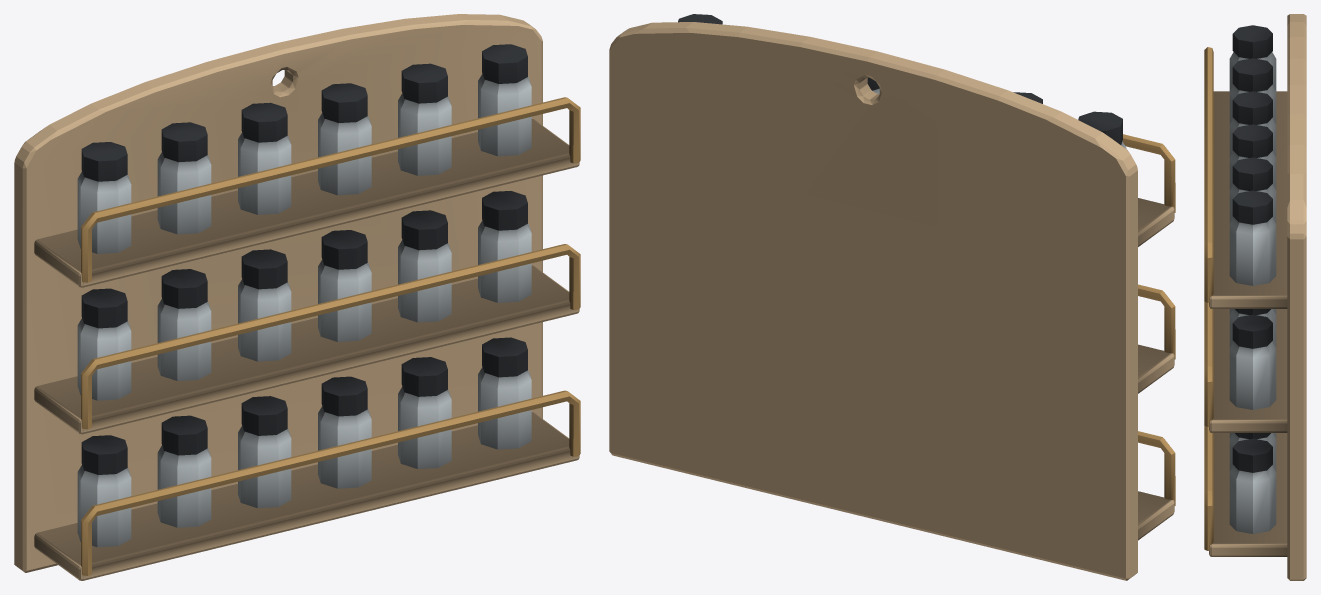
The model's file is spiceRack.glb.
3 renders of one model, left to right at view 1: azimuth 30°, elevation 25°; view 2: azimuth 150°, elevation 25°; view 3: azimuth 270°, elevation 25°, orthographic. The views are drawn at different scales.
Visible parts, largest first — view 1: body; view 2: body; view 3: body.
Boxes of the visible parts, left/top/right/bottom form: body: left=14, top=14, right=580, bottom=580; body: left=609, top=14, right=1175, bottom=580; body: left=1204, top=14, right=1306, bottom=580.
Bounding box in the file's own units: 0.52 × 0.44 × 0.1048.
